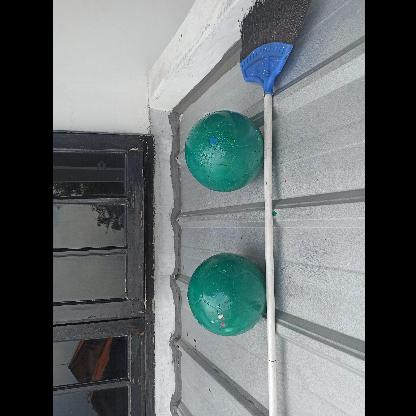green_ball: (184, 255, 266, 337), (182, 111, 262, 191)
